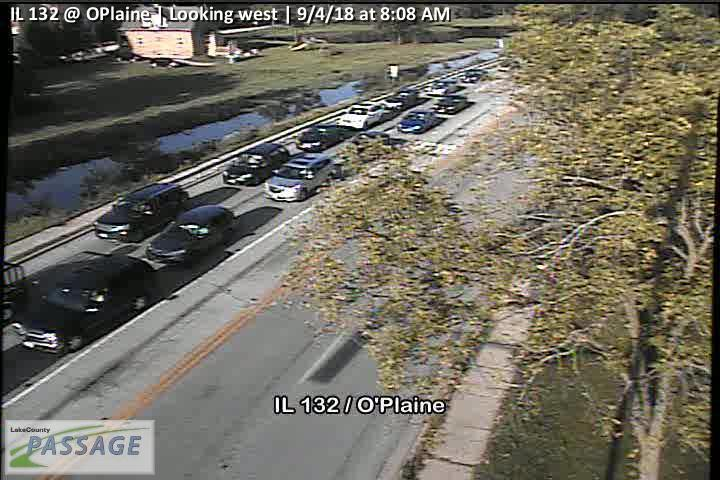SUV: (94, 184, 188, 243), (264, 152, 334, 201), (221, 143, 290, 186), (337, 101, 383, 130)
Sedan: (11, 254, 155, 356), (146, 204, 233, 263), (296, 122, 344, 152), (397, 107, 434, 133), (432, 95, 468, 114)
